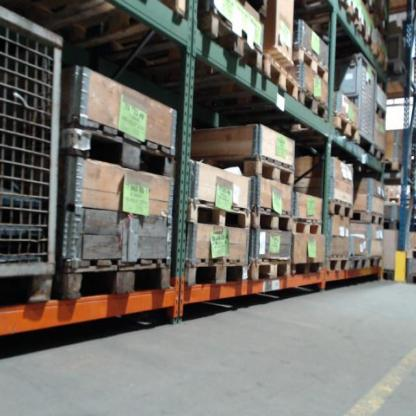pallet: (98, 16, 266, 97), (61, 113, 176, 178), (59, 257, 175, 302), (11, 1, 190, 20), (218, 153, 297, 185), (262, 56, 300, 111), (187, 198, 251, 230), (187, 257, 251, 288), (292, 39, 332, 85), (293, 88, 329, 129), (315, 22, 374, 47), (290, 2, 357, 20), (251, 257, 291, 286), (251, 207, 293, 233), (327, 111, 361, 142), (293, 258, 323, 281), (320, 196, 352, 217), (350, 207, 384, 226), (293, 218, 323, 239), (372, 42, 389, 76), (326, 255, 351, 276), (350, 252, 368, 274), (373, 145, 386, 166), (368, 253, 384, 270), (376, 102, 387, 123)
stillage: (2, 1, 65, 308), (329, 48, 379, 159), (384, 29, 413, 80)
